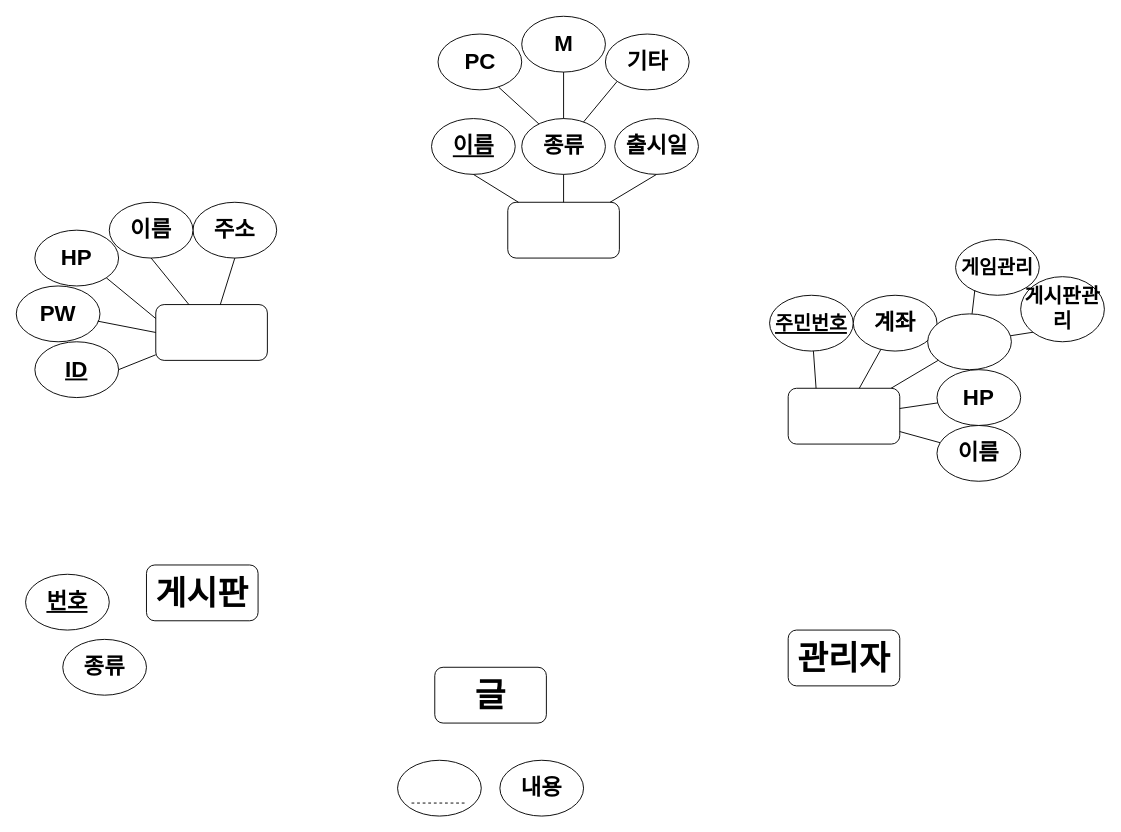
This 1121x832 diagram has some shape labels left out. Each missing label, with the centre of its shape:
게임: (x=563, y=229)
관리부서: (x=969, y=341)
사용자: (x=211, y=332)
제목: (x=439, y=787)
직원: (x=843, y=415)
